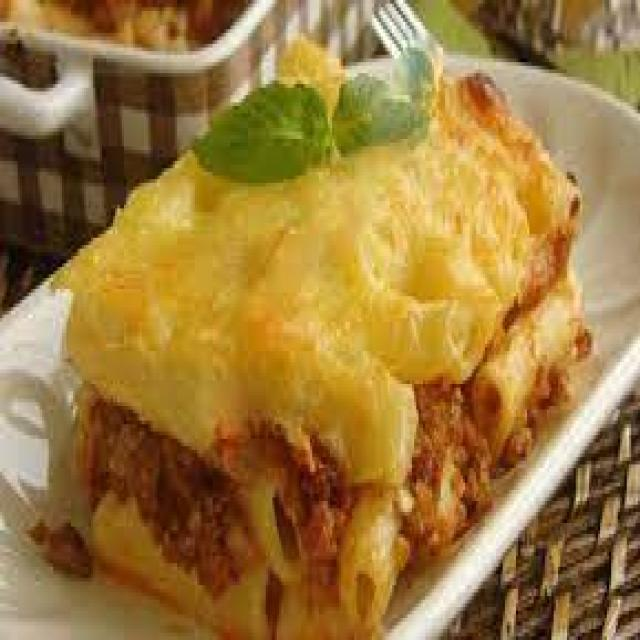Bechamel: (7, 40, 620, 640)
